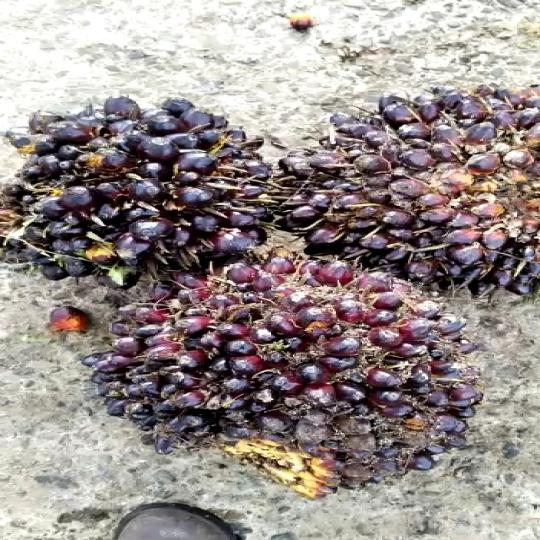kurang masak: (121, 248, 486, 515), (268, 72, 540, 316), (0, 90, 316, 285)
